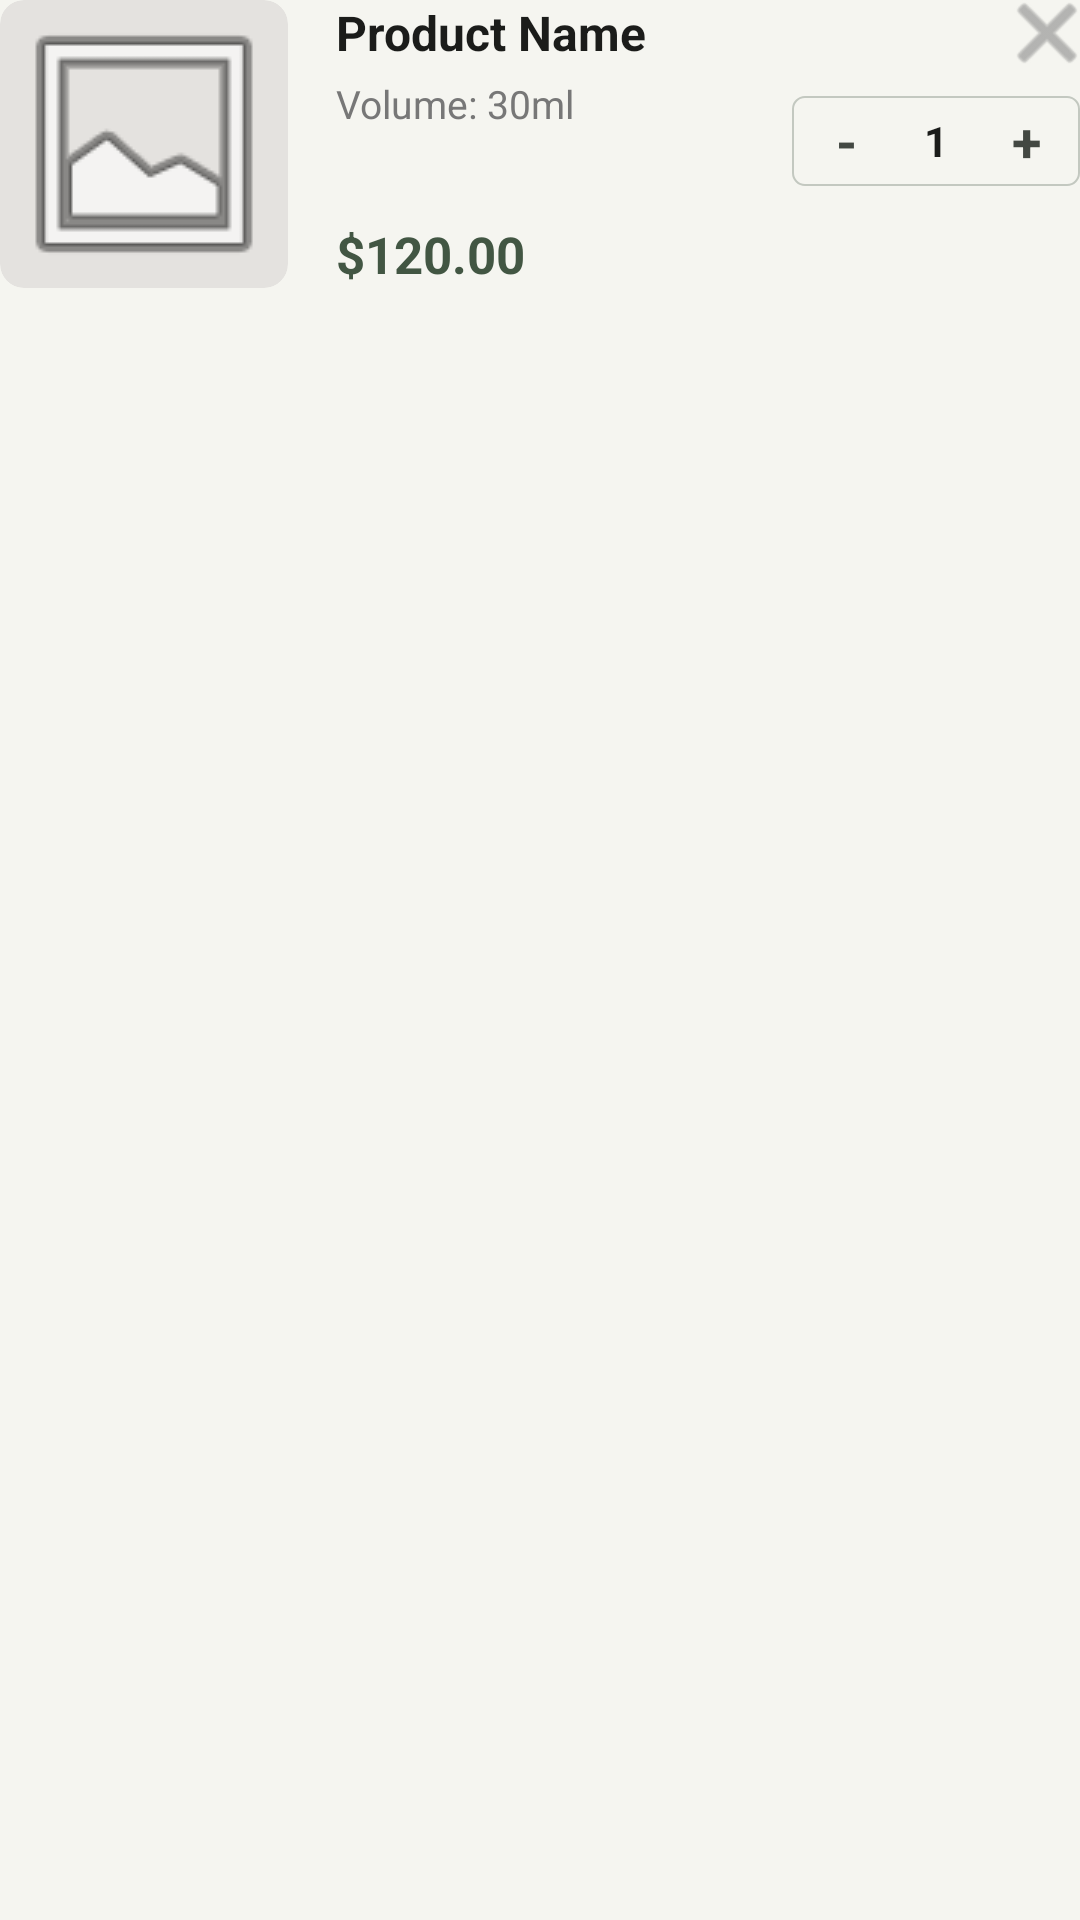

Point at icon controls on the screen. Image size 1080px x 1920px, points as (x,y).
close clear cancel: (1047,33)
gallery: (144,144)
